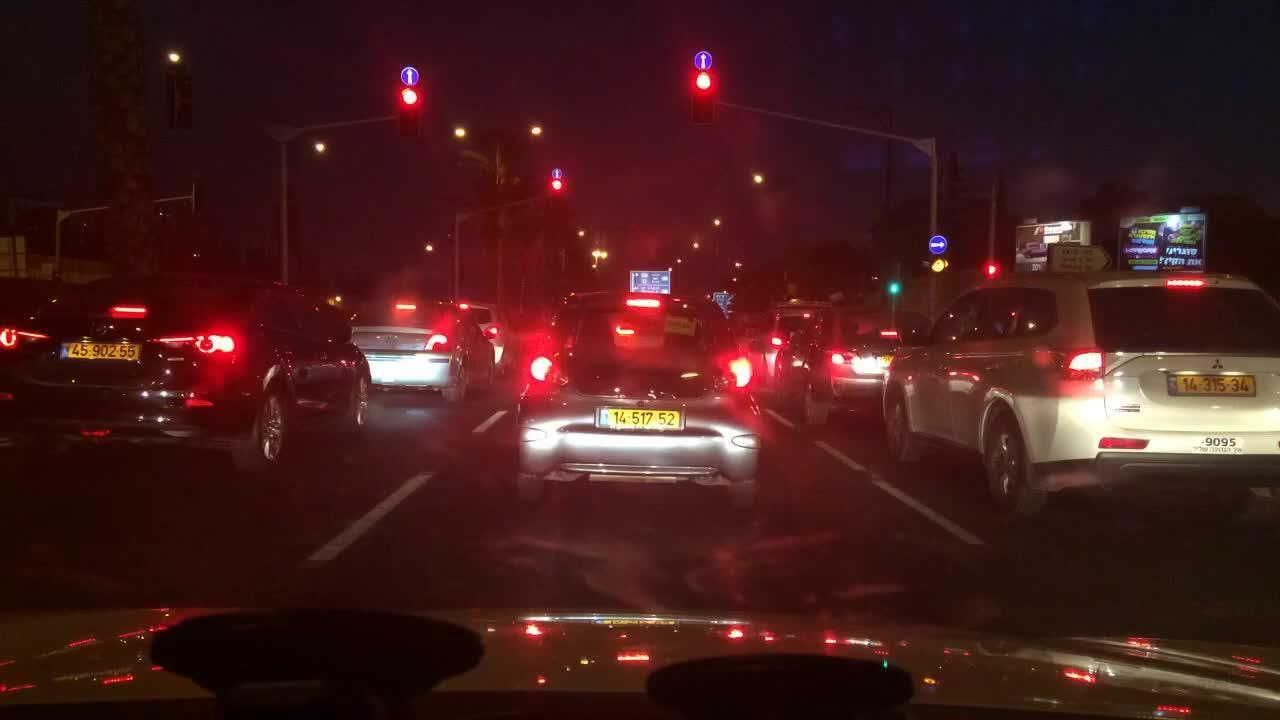Mitsubishi: (1208, 355, 1228, 376)
